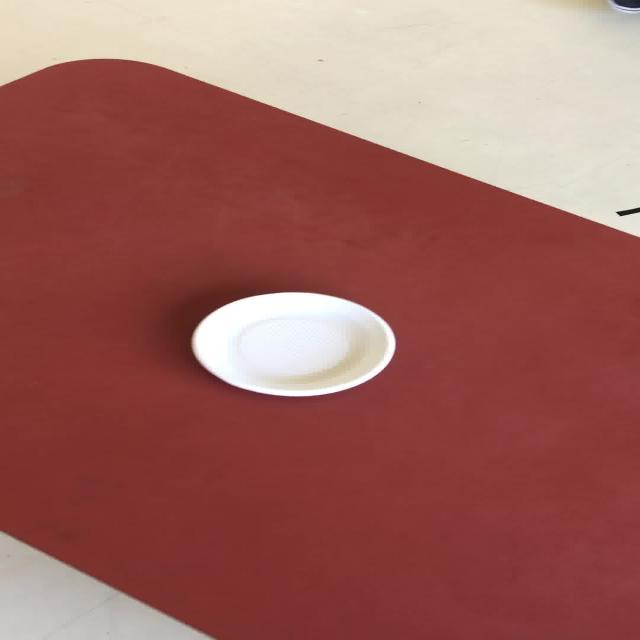plate: (189, 290, 395, 397)
